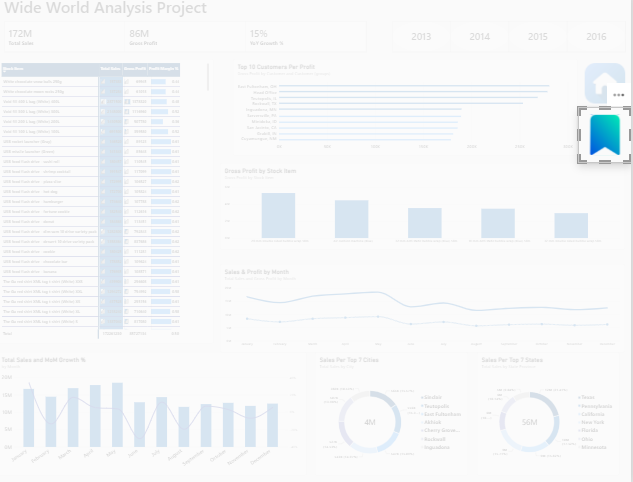

This screenshot's page, from the dashboard's own definition file:
{"tool":"powerbi","page":{"name":"Project","canvas":[2350,1800],"ordinal":1},"visuals":[{"type":"textbox","box":[26.7,0,800,93.3],"z":0},{"type":"pivotTable","fields":{"Rows":["DimStockItem.Stock Item"],"Values":["Measure.Total Sales","Measure.Gross Profit","Measure.Profit Margin %"]},"box":[0,233.3,803.3,1053.3],"z":1000},{"type":"clusteredBarChart","title":"Top 10 Customers Per Profit","fields":{"Category":["DimCustomer.Customer"],"Series":["DimCustomer.Customer (groups)"],"Y":["Measure.Gross Profit"]},"box":[873.3,233.3,1276.7,356.7],"z":2000},{"type":"columnChart","title":"Gross Profit by Stock Item","fields":{"Category":["DimStockItem.Stock Item"],"Y":["Measure.Gross Profit"]},"box":[826.7,616.7,1500,320],"z":3000},{"type":"lineClusteredColumnComboChart","fields":{"Category":["DimDate.Month"],"Y":["Measure.Total Sales"],"Y2":["Measure.MoM Growth %"]},"box":[0,1319.2,1146.7,456.7],"z":5000},{"type":"lineChart","title":"Sales & Profit by Month","fields":{"Category":["DimDate.Month","DimDate.Year"],"Y":["Measure.Total Sales","Measure.Gross Profit"]},"box":[826.7,993.3,1500,326.7],"z":6000},{"type":"donutChart","title":"Sales Per Top 7 Cities","fields":{"Category":["DimCity.City"],"Y":["Measure.Total Sales"]},"box":[1176.7,1320,566.7,456.7],"z":7000},{"type":"donutChart","title":"Sales Per Top 7 States","fields":{"Category":["DimCity.State Province"],"Y":["Measure.Total Sales"]},"box":[1776.7,1320,526.7,456.7],"z":8000},{"type":"cardVisual","fields":{"Data":["Measure.Total Sales","Measure.Gross Profit","Measure.YoY Growth %","Measure.Total Cost","Measure.Total Quantity Sold"]},"box":[25,90,1120,120],"z":9000},{"type":"actionButton","box":[2150,207.5,200,232.5],"z":10000},{"type":"advancedSlicerVisual","fields":{"Values":["DimDate.Year"]},"box":[1461.5,92.3,865.4,115.4],"z":11000},{"type":"actionButton","box":[2150,410,200,206.7],"z":12000}]}

Visuals, with their boxes in screenshot pixels (x1, y1, x2, y2), scaled from the page's 2350x1800 canvas onto the 633x482 screenshot:
textbox: 7, 0, 223, 25
pivotTable - DimStockItem.Stock Item x Measure.Total Sales: 0, 62, 216, 345
"Top 10 Customers Per Profit" clusteredBarChart: 235, 62, 579, 158
"Gross Profit by Stock Item" columnChart: 223, 165, 627, 251
lineClusteredColumnComboChart - DimDate.Month x Measure.Total Sales: 0, 353, 309, 476
"Sales & Profit by Month" lineChart: 223, 266, 627, 353
"Sales Per Top 7 Cities" donutChart: 317, 353, 470, 476
"Sales Per Top 7 States" donutChart: 479, 353, 620, 476
cardVisual - Measure.Total Sales x Measure.Gross Profit: 7, 24, 308, 56
actionButton: 579, 56, 632, 118
advancedSlicerVisual - DimDate.Year: 394, 25, 627, 56
actionButton: 579, 110, 632, 165
